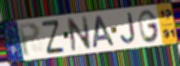A: (92, 14, 117, 49)
G: (137, 9, 161, 45)
J: (119, 11, 137, 45)
N: (66, 15, 93, 53)
P: (16, 21, 42, 58)
Z: (40, 18, 66, 56)
